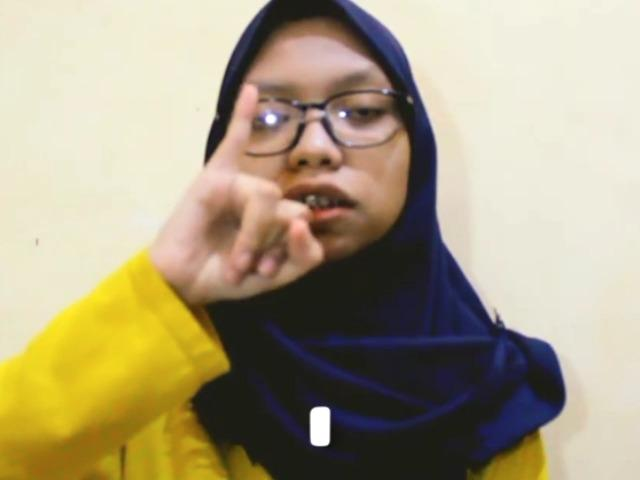I: (167, 84, 327, 306)
